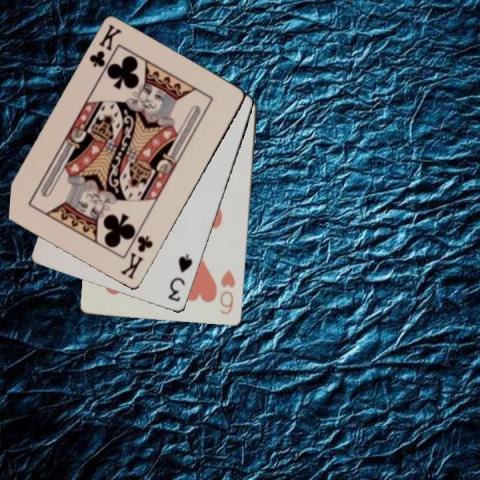3s: (165, 252, 195, 304)
6h: (217, 267, 237, 316)
Kc: (118, 233, 155, 281), (86, 22, 123, 69)
